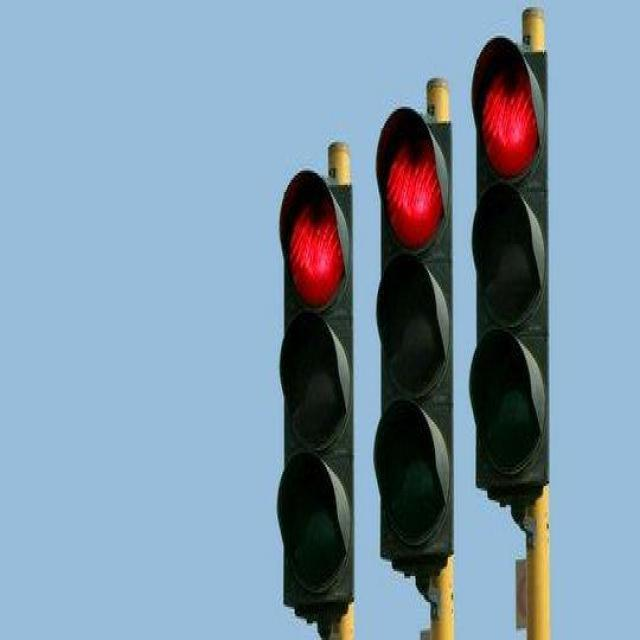red_light: (381, 121, 452, 562), (477, 47, 547, 486), (284, 178, 352, 603)
